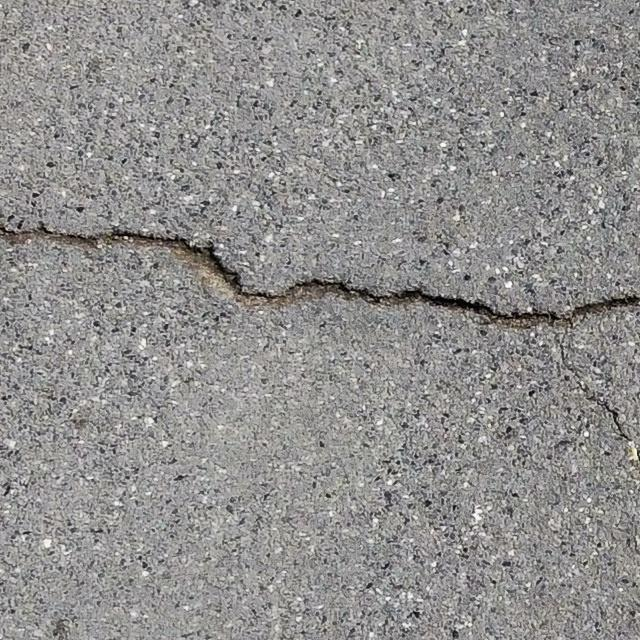TransverseCrack: (1, 223, 640, 329)
